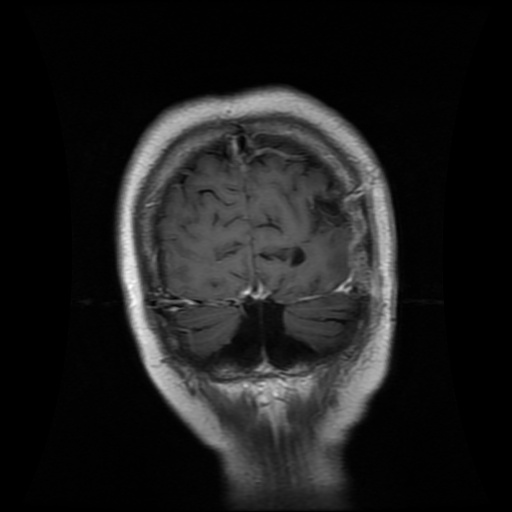glioma: (305, 186, 349, 237)
